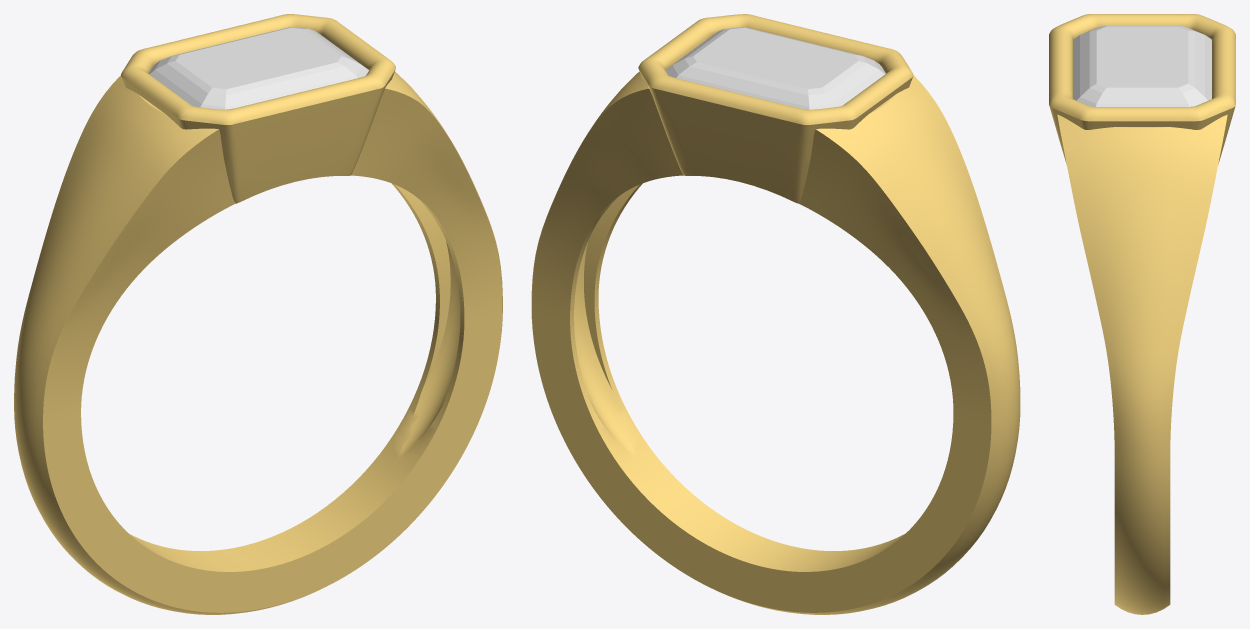
File: GianV3bezel_blender.glb
The picture shows the model from 3 angles, left to right: view 1: azimuth 30°, elevation 25°; view 2: azimuth 150°, elevation 25°; view 3: azimuth 270°, elevation 25°; orthographic projection. The views are drawn at different scales.
Parts seen in each view (by area): view 1: Gian V3 YG for 3d model, Gian dia for 3d model; view 2: Gian V3 YG for 3d model, Gian dia for 3d model; view 3: Gian V3 YG for 3d model, Gian dia for 3d model.
Part boxes in pixels (x1,y1,x2,y2): Gian V3 YG for 3d model: (14,14,502,614); Gian dia for 3d model: (148,27,368,109); Gian V3 YG for 3d model: (531,14,1020,614); Gian dia for 3d model: (665,27,885,109); Gian V3 YG for 3d model: (1049,14,1235,614); Gian dia for 3d model: (1073,26,1211,106).
Size of the model in its own units: 20.3 by 22.22 by 7.06.
